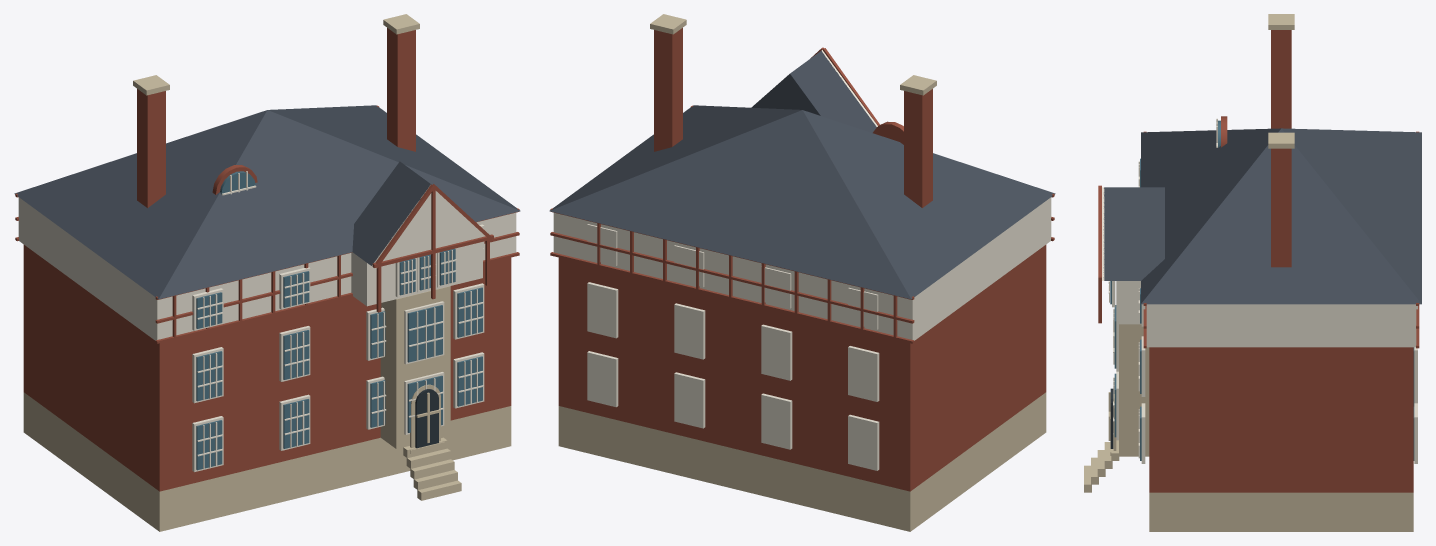
File: moco-museum.glb
3 renders of one model, left to right at view 1: azimuth 30°, elevation 25°; view 2: azimuth 150°, elevation 25°; view 3: azimuth 270°, elevation 25°, orthographic. The views are drawn at different scales.
Visible parts, largest first — view 1: moco-museum; view 2: moco-museum; view 3: moco-museum.
Boxes of the visible parts, <box> form: moco-museum: <box>14,14,520,531</box>; moco-museum: <box>549,14,1055,531</box>; moco-museum: <box>1084,14,1421,531</box>.
Bounding box in the file's own units: 22.56 × 22.9 × 18.74.
